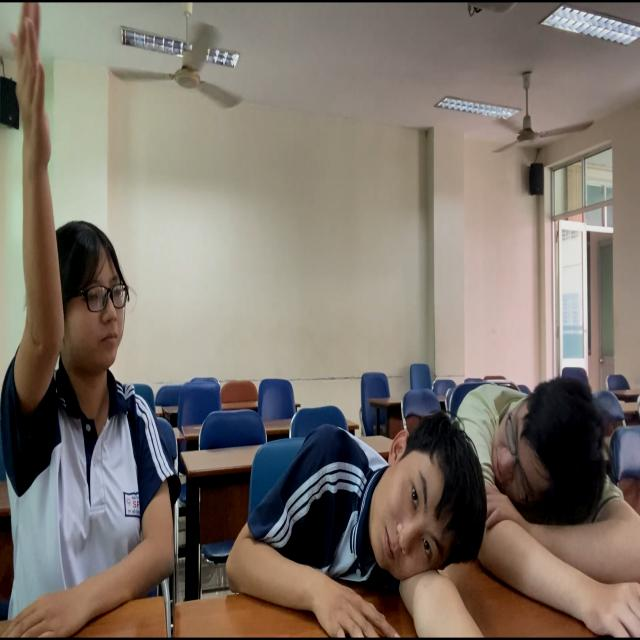raise_hand: (1, 1, 175, 640)
sleep: (244, 391, 471, 640), (450, 356, 640, 567)
